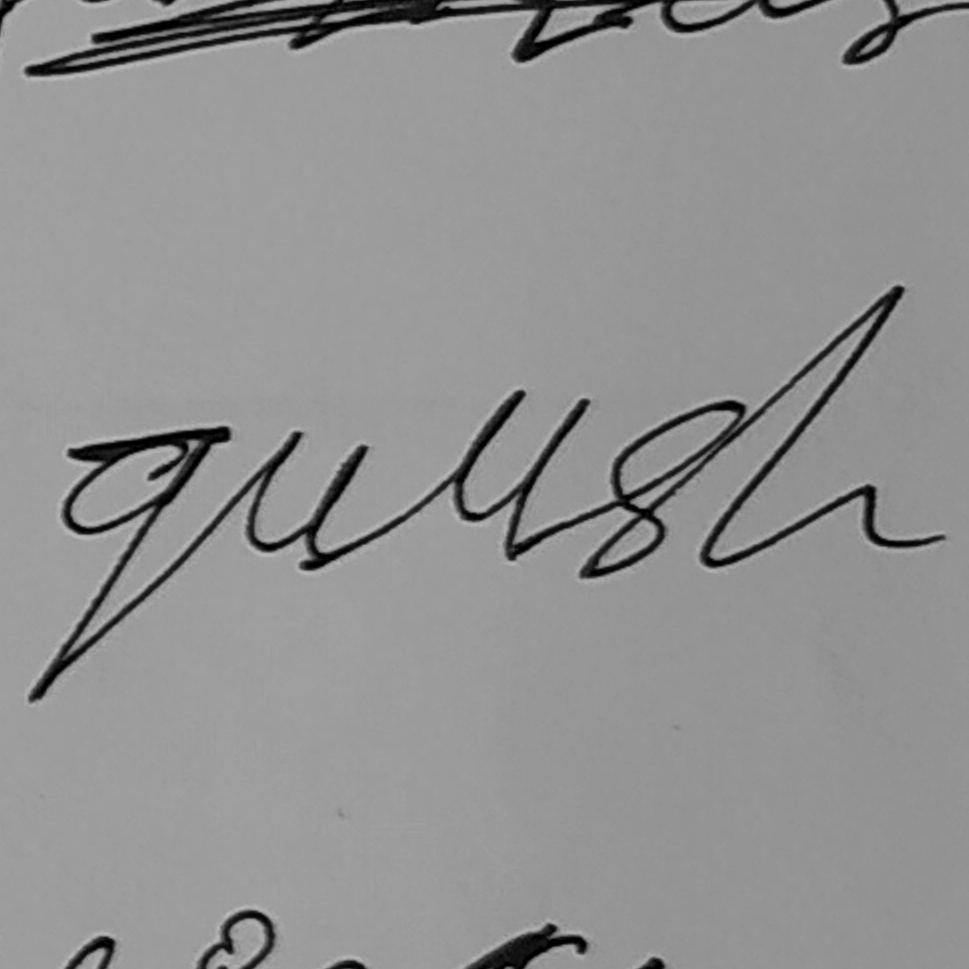h: (696, 281, 907, 571)
q: (21, 421, 236, 708)
r: (393, 385, 594, 570)
s: (575, 397, 749, 582)
u: (240, 425, 371, 577)
